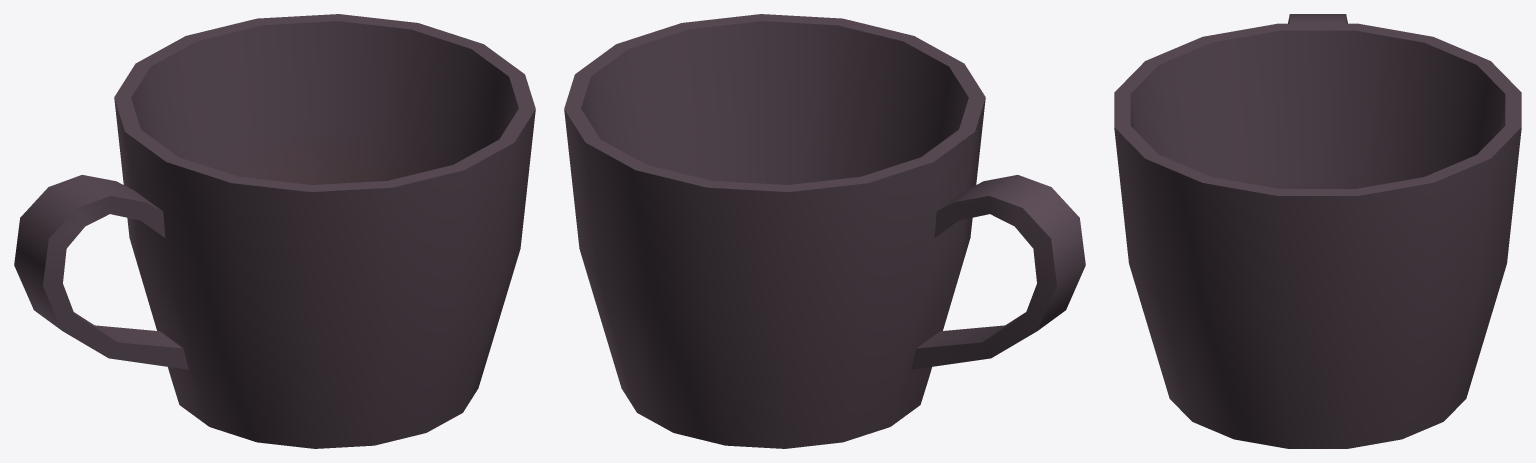
File: CupD.FBX
3 renders of one model, left to right at view 1: azimuth 30°, elevation 25°; view 2: azimuth 150°, elevation 25°; view 3: azimuth 270°, elevation 25°, orthographic.
Parts seen in each view (by area): view 1: CupD_LOD0; view 2: CupD_LOD0; view 3: CupD_LOD0.
Part boxes in pixels (x1,y1,x2,y2): CupD_LOD0: [14, 14, 535, 448]; CupD_LOD0: [564, 14, 1085, 448]; CupD_LOD0: [1114, 14, 1521, 448].
Size of what is drawn, in the model's own units: 11.71 by 6.6 by 8.83.
